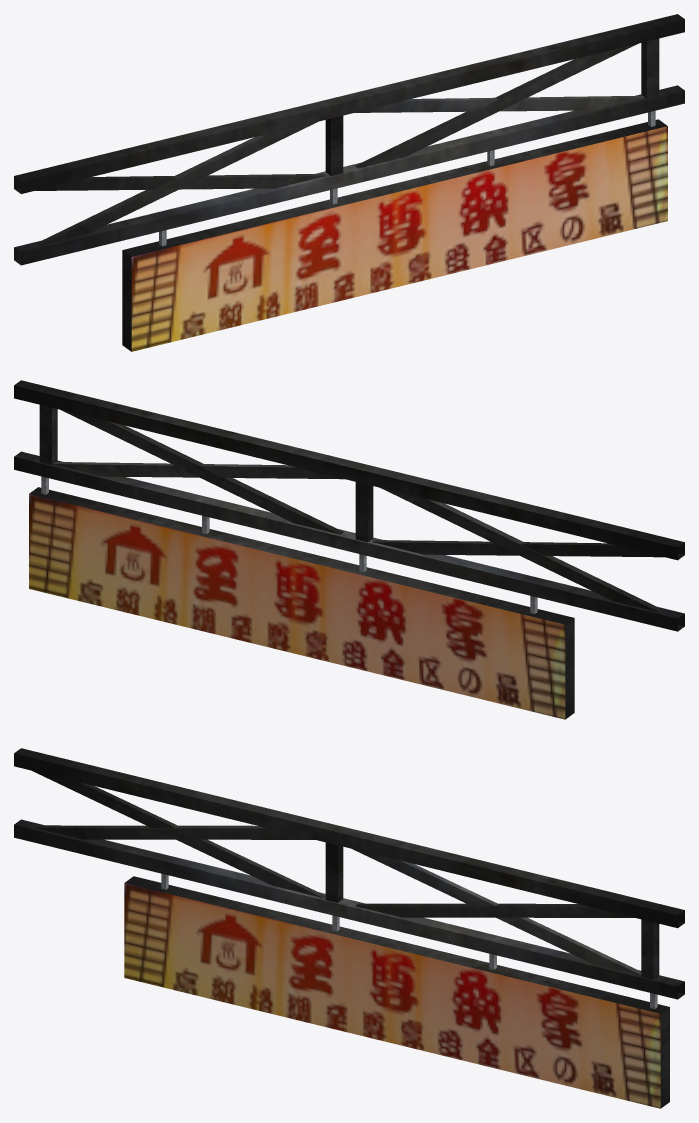
The model's file is SIN0210012.fbx.
3 renders of one model, top to bottom at view 1: azimuth 30°, elevation 25°; view 2: azimuth 150°, elevation 25°; view 3: azimuth 330°, elevation 25°, orthographic.
Visible parts, largest first — view 1: smSIN0210012; view 2: smSIN0210012; view 3: smSIN0210012.
Boxes of the visible parts, bbox=[...] form: smSIN0210012: bbox=[14, 14, 684, 351]; smSIN0210012: bbox=[14, 380, 684, 719]; smSIN0210012: bbox=[14, 748, 684, 1108].
Bounding box in the file's own units: 482 × 137 × 11.79.
Materials: 1 (1 with a texture image).
